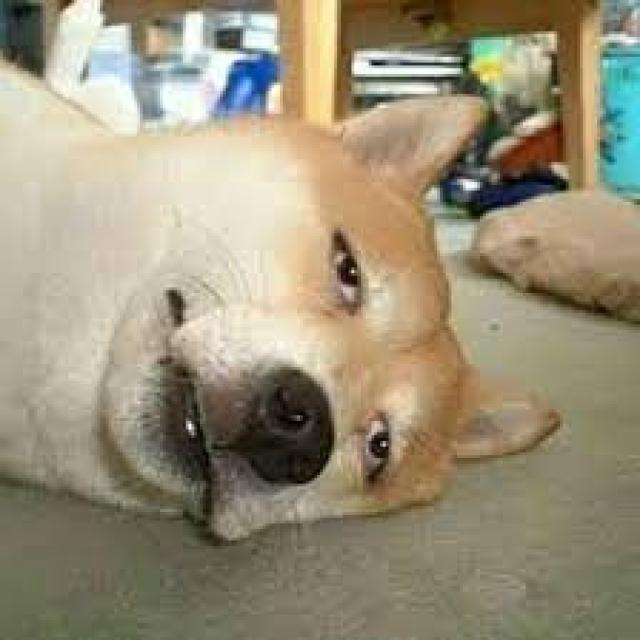dog: (1, 46, 573, 553)
